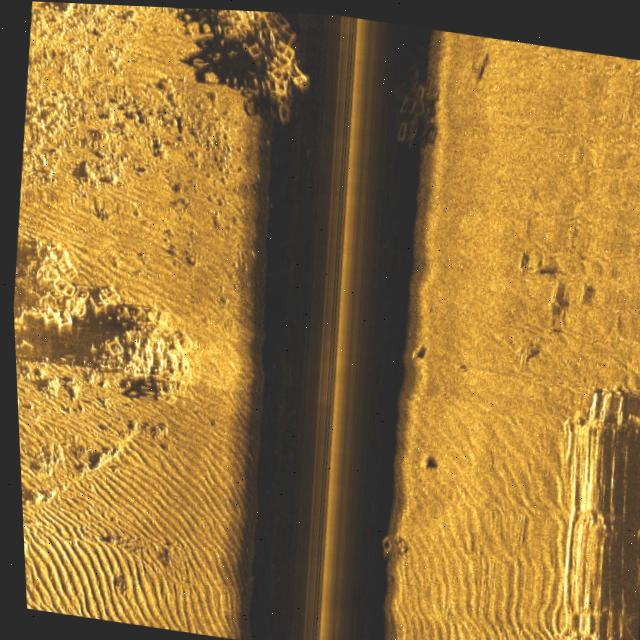artificial reef: (14, 214, 197, 418), (204, 7, 313, 118), (376, 36, 448, 175), (368, 515, 407, 576)
